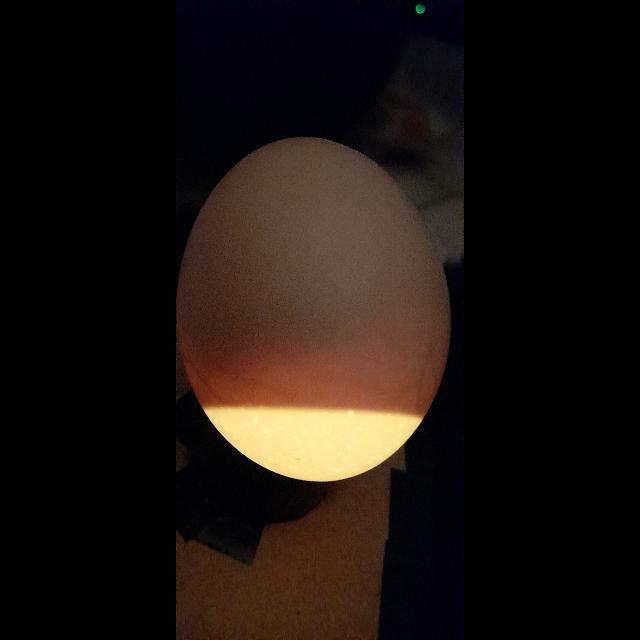Fertile: (176, 135, 464, 488)
